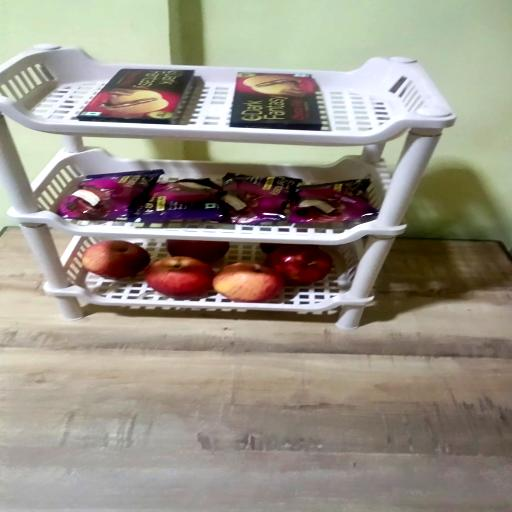Apple: (214, 264, 286, 304), (146, 258, 214, 300), (82, 242, 149, 281), (266, 247, 332, 285), (166, 239, 229, 263)
Choco Fills: (74, 68, 193, 124), (231, 71, 323, 129)
Choco Pie: (58, 170, 163, 221), (220, 175, 302, 227), (136, 180, 228, 225), (290, 181, 377, 227)
